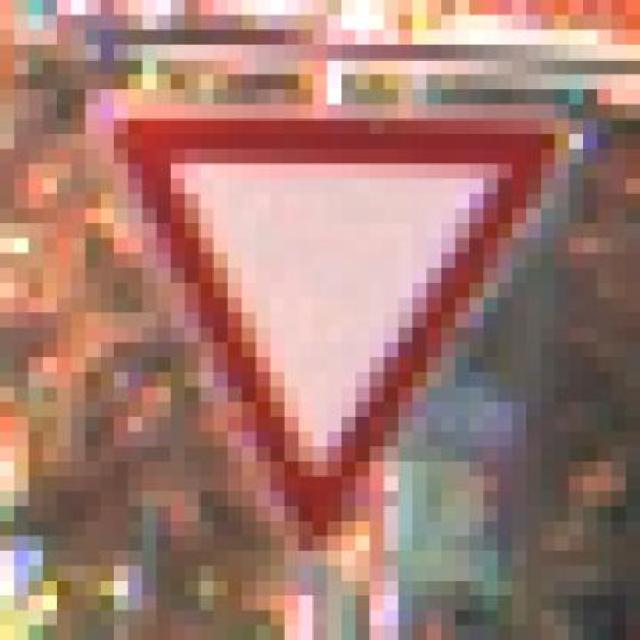Give Way: (85, 90, 583, 536)
